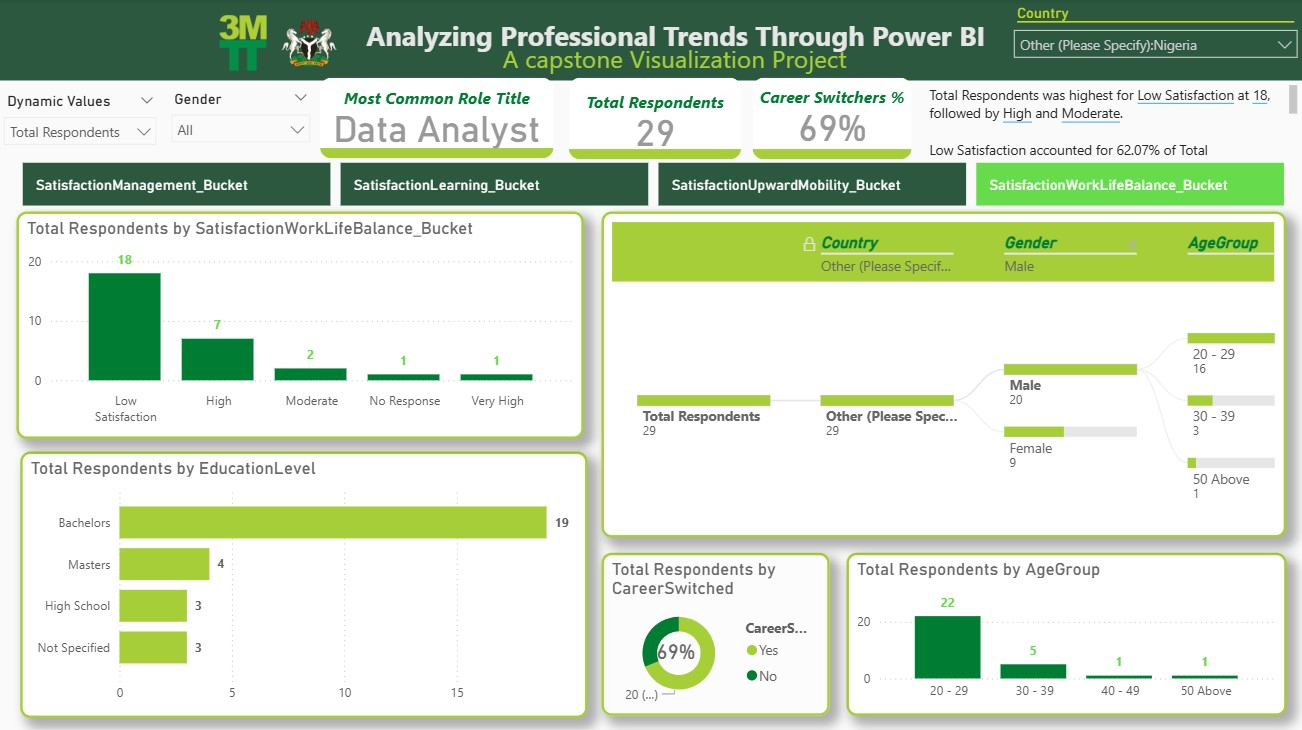

What the dashboard file says about the page in this screenshot:
{"tool":"powerbi","page":{"name":"Page 1","canvas":[1280,720],"ordinal":0},"visuals":[{"type":"shape","box":[0,0,1280,80],"z":0},{"type":"barChart","fields":{"Y":["_Measures.Total Respondents"],"Category":["Data_Professional_Survey.EducationLevel"]},"box":[20.9,444.2,557.1,261.4],"z":1000},{"type":"columnChart","fields":{"Y":["_Measures.Total Respondents"],"Category":["Data_Professional_Survey.AgeGroup"]},"box":[834.4,515.3,429.5,190.2],"z":2000},{"type":"columnChart","fields":{"Category":["Data_Professional_Survey.SatisfactionWorkLifeBalance_Bucket"],"Y":["_Measures.Total Respondents"]},"box":[17.2,208.6,557.1,223.3],"z":3000},{"type":"cardVisual","fields":{"Data":["_Measures.Total Respondents"]},"box":[555.1,77.1,179.1,81],"z":4000},{"type":"cardVisual","fields":{"Data":["_Measures.Most Common Role Title"]},"box":[310.9,77.1,239.3,84.7],"z":5000},{"type":"donutChart","fields":{"Y":["_Measures.Total Respondents"],"Category":["Data_Professional_Survey.CareerSwitched"]},"box":[593,515.1,225.1,190.4],"z":6000},{"type":"slicer","fields":{"Values":["Dynamic Values.Dynamic Values"]},"box":[0,87.1,159.5,65],"z":7000},{"type":"textbox","box":[304,0,720,64],"z":8000},{"type":"textbox","box":[489.1,41.8,393.9,37.5],"z":9000},{"type":"decompositionTreeVisual","fields":{"Analyze":["_Measures.Total Respondents"],"ExplainBy":["Data_Professional_Survey.Country","Data_Professional_Survey.Gender","Data_Professional_Survey.AgeGroup"]},"box":[593,207.8,669.4,295.8],"z":10000},{"type":"card","fields":{"Values":["_Measures.Career Switchers %"]},"box":[643.5,613.2,50.5,34.6],"z":11000},{"type":"cardVisual","fields":{"Data":["_Measures.Career Switchers %"]},"box":[735.5,77.1,166.9,81],"z":12000},{"type":"advancedSlicerVisual","fields":{"Values":["Dynamic x-axis.Dynamic x-axis"]},"box":[23.3,160.7,1239.3,42.9],"z":13000},{"type":"slicer","fields":{"Values":["Data_Professional_Survey.Gender"]},"box":[158.3,84.7,157.1,74.8],"z":14000},{"type":"textbox","box":[908,79.8,371.8,81],"z":15000},{"type":"image","box":[272,10.6,64,64],"z":16000},{"type":"image","box":[176,10.6,128,64],"z":17000}]}

Visuals, with their boxes in screenshot pixels (x1, y1, x2, y2), scaled from the page's 1280x720 canvas onto the 1302x730 screenshot:
shape: bbox=[0, 0, 1301, 81]
barChart - _Measures.Total Respondents x Data_Professional_Survey.EducationLevel: bbox=[21, 450, 588, 715]
columnChart - _Measures.Total Respondents x Data_Professional_Survey.AgeGroup: bbox=[849, 522, 1286, 715]
columnChart - Data_Professional_Survey.SatisfactionWorkLifeBalance_Bucket x _Measures.Total Respondents: bbox=[17, 211, 584, 438]
cardVisual - _Measures.Total Respondents: bbox=[565, 78, 747, 160]
cardVisual - _Measures.Most Common Role Title: bbox=[316, 78, 560, 164]
donutChart - _Measures.Total Respondents x Data_Professional_Survey.CareerSwitched: bbox=[603, 522, 832, 715]
slicer - Dynamic Values.Dynamic Values: bbox=[0, 88, 162, 154]
textbox: bbox=[309, 0, 1042, 65]
textbox: bbox=[498, 42, 898, 80]
decompositionTreeVisual - _Measures.Total Respondents x Data_Professional_Survey.Country: bbox=[603, 211, 1284, 511]
card - _Measures.Career Switchers %: bbox=[655, 622, 706, 657]
cardVisual - _Measures.Career Switchers %: bbox=[748, 78, 918, 160]
advancedSlicerVisual - Dynamic x-axis.Dynamic x-axis: bbox=[24, 163, 1284, 206]
slicer - Data_Professional_Survey.Gender: bbox=[161, 86, 321, 162]
textbox: bbox=[924, 81, 1301, 163]
image: bbox=[277, 11, 342, 76]
image: bbox=[179, 11, 309, 76]
